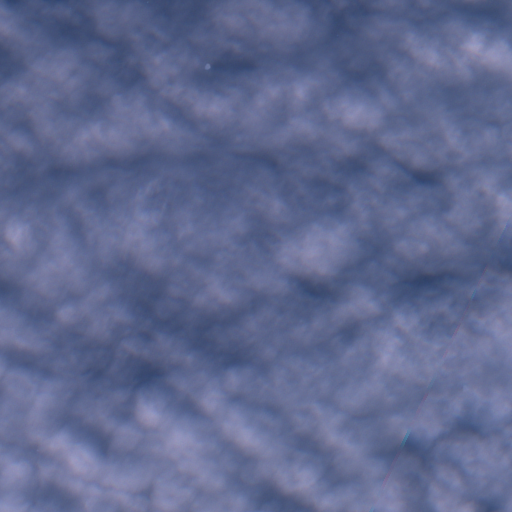Iceberg: (205, 64, 210, 69)
